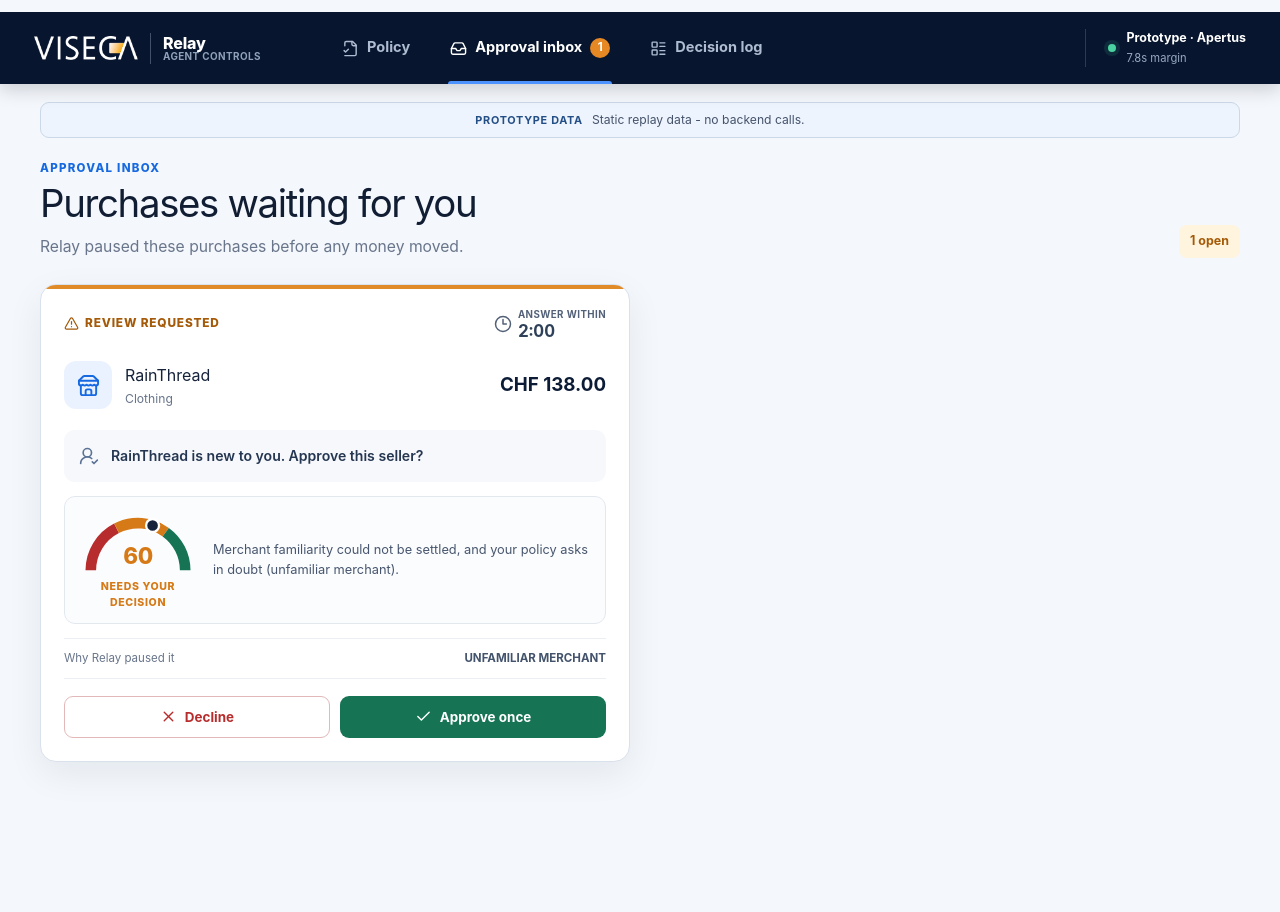
Test: Relay interface › loads all three customer screens and mock decisions
This screenshot has width=1280, height=912.
expect the heading "RainThread" is shown: met, box top-left (125, 365), bottom-right (210, 385)
expect the text "PROTOTYPE DATA" is shown: met, box top-left (475, 112), bottom-right (583, 128)
Click the button "Policy".
click(376, 48)  # box top-left (322, 12), bottom-right (430, 84)
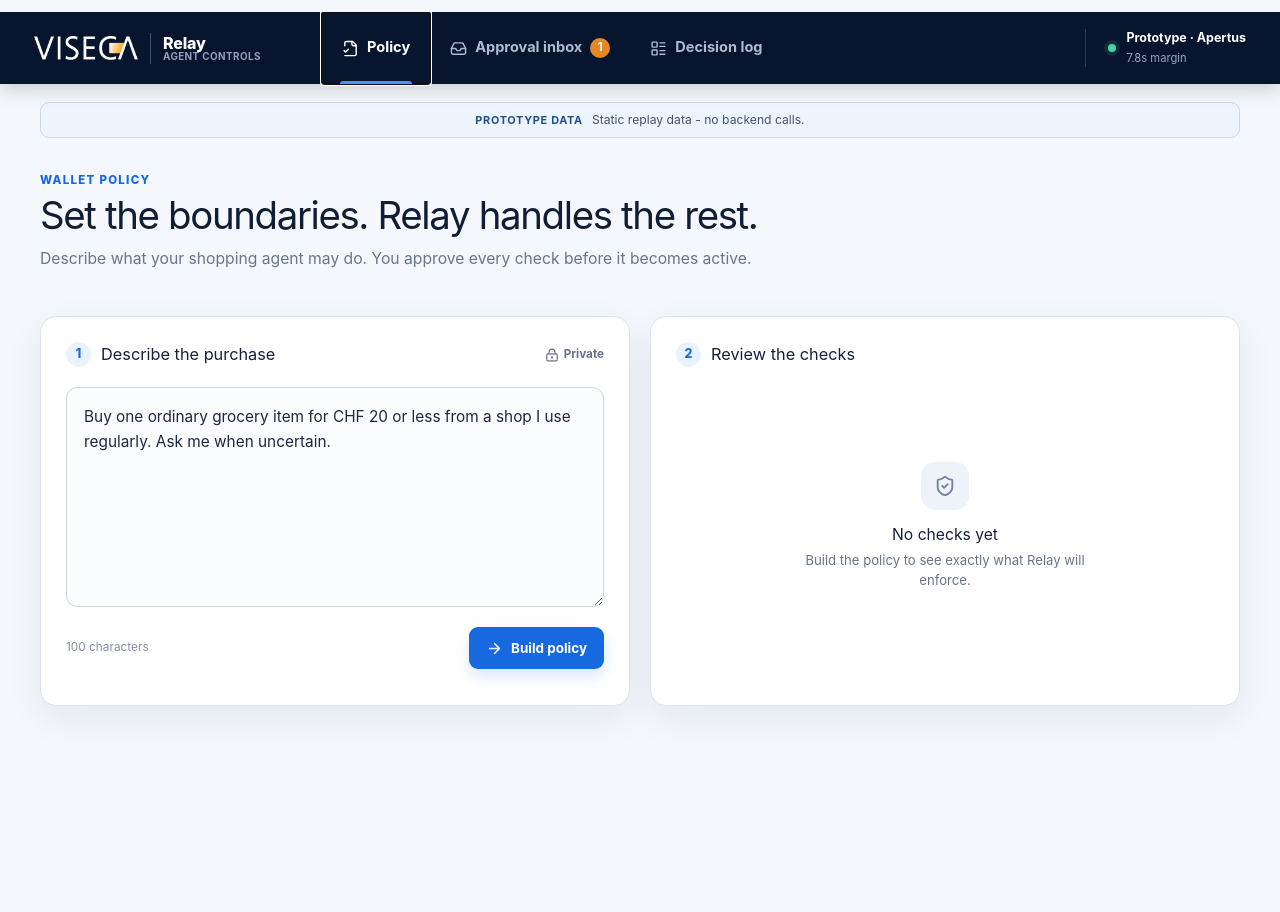
expect the heading "Set the boundaries. Relay handles the rest." is shown: met, box top-left (40, 192), bottom-right (758, 238)
Click the button "Decision log".
click(706, 48)  # box top-left (630, 12), bottom-right (783, 84)
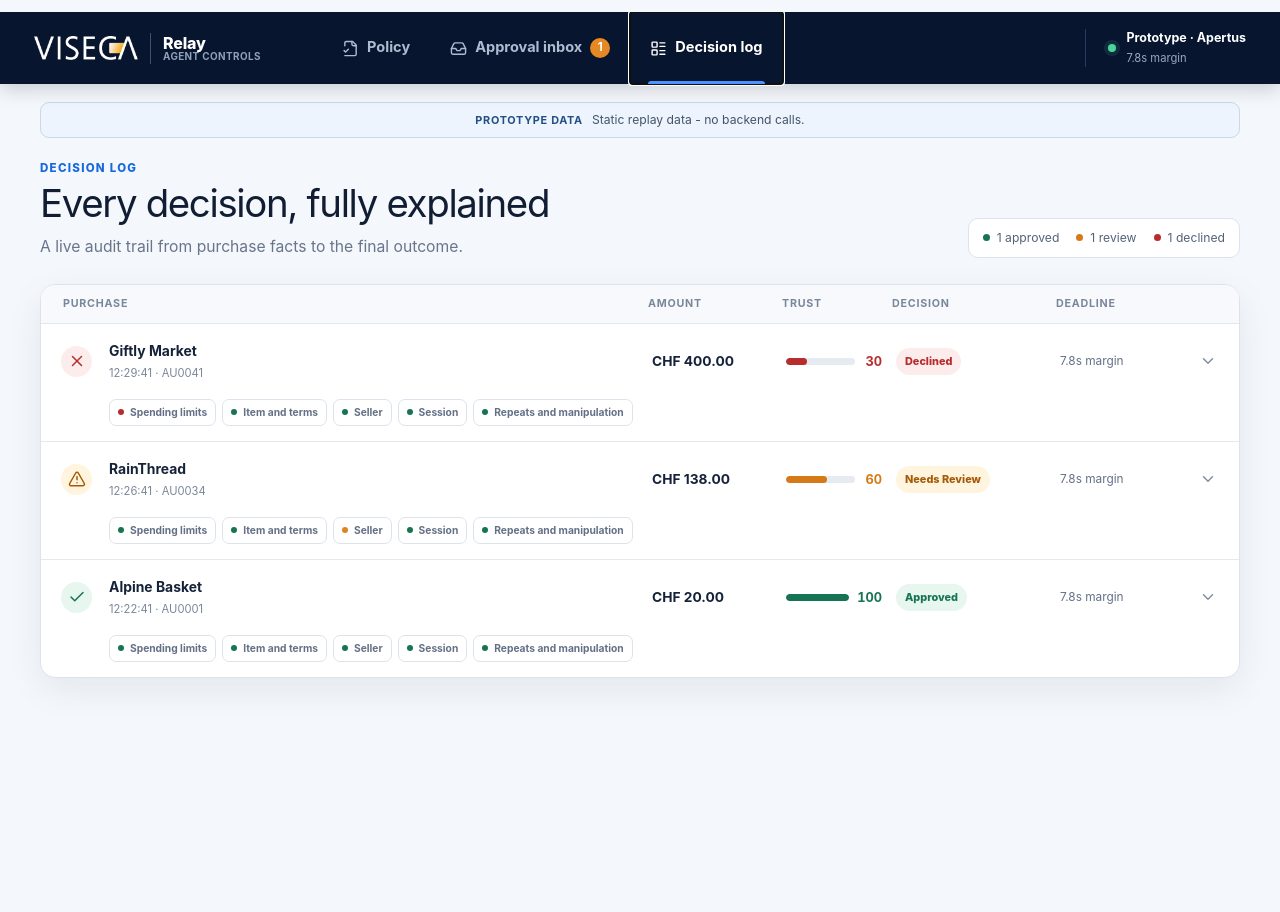
expect the text "Giftly Market" is shown: met, box top-left (109, 343), bottom-right (197, 359)
expect the text "Alpine Basket" is shown: met, box top-left (109, 579), bottom-right (202, 595)
